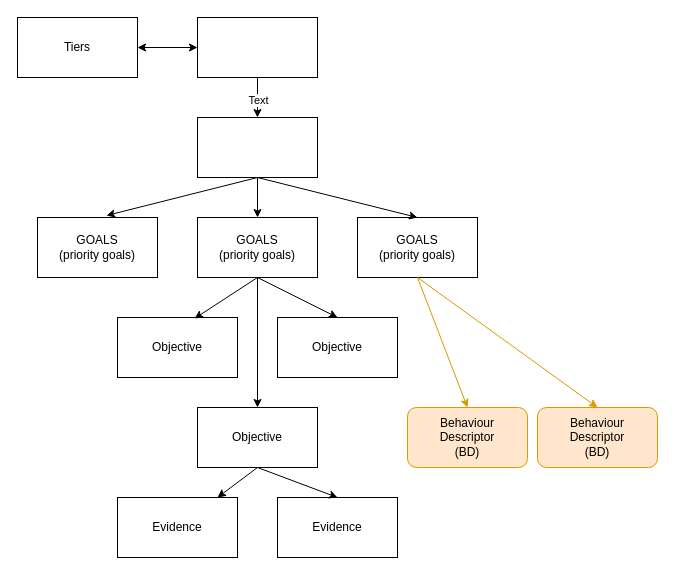
The diagram is 675 pixels wide and 575 high, and some of its shapes have lost their labels. The box of each missing label's shape, as (x1, y1, x2, y2) in pixels:
Child: (196, 16, 318, 78)
PLOP: (196, 116, 318, 178)
